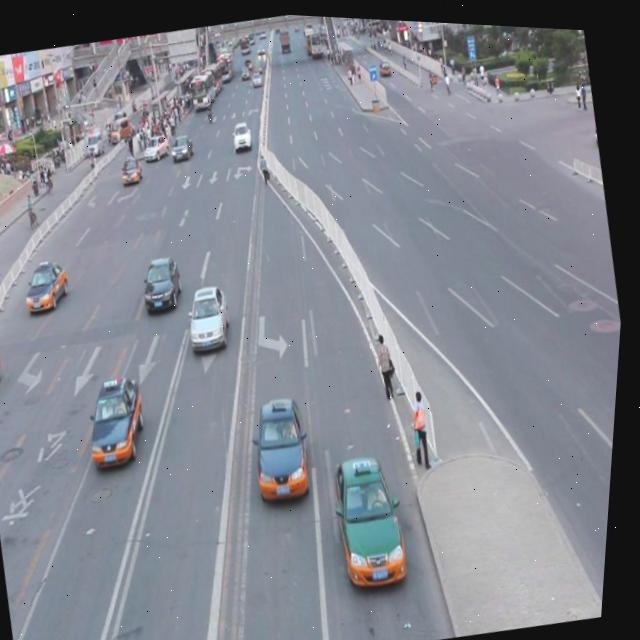car: (328, 442, 424, 592), (248, 388, 324, 504), (82, 367, 159, 469), (184, 278, 241, 353), (23, 256, 80, 317), (140, 249, 191, 314), (0, 335, 13, 400)
